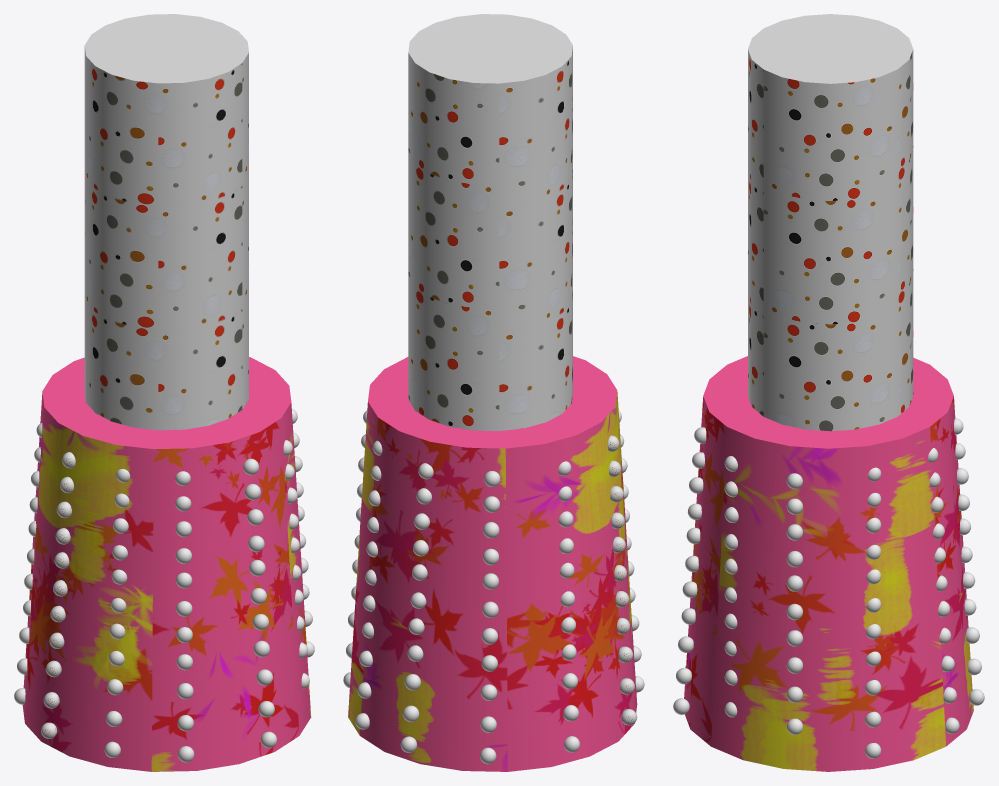
Rendered from MiddleColumn.fbx.
The picture shows the model from 3 angles, left to right: view 1: azimuth 30°, elevation 25°; view 2: azimuth 150°, elevation 25°; view 3: azimuth 270°, elevation 25°; orthographic projection.
Visible parts, largest first — view 1: polySurface4601; view 2: polySurface4601; view 3: polySurface4601.
Boxes of the visible parts, x1,y1,x2,y2 form: polySurface4601: (14,14,314,771); polySurface4601: (343,14,644,771); polySurface4601: (673,14,984,771).
Bounding box in the file's own units: 3.17 × 7.6 × 3.24.
